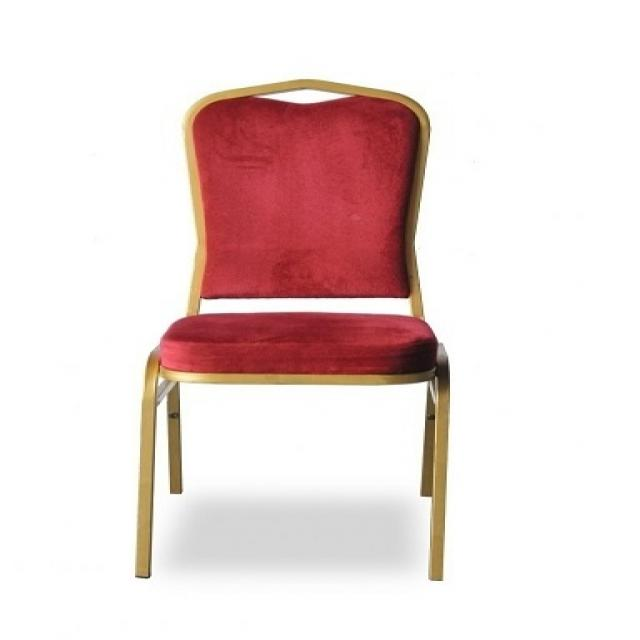Chair: (133, 73, 452, 585)
